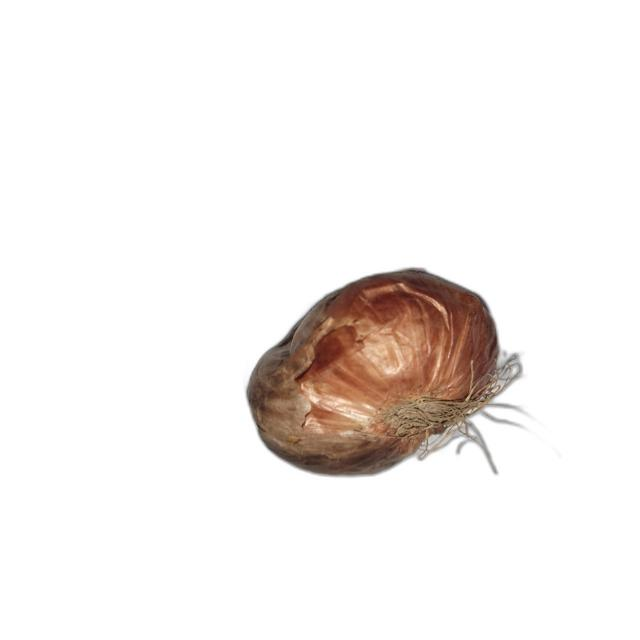onion: (245, 267, 522, 477)
